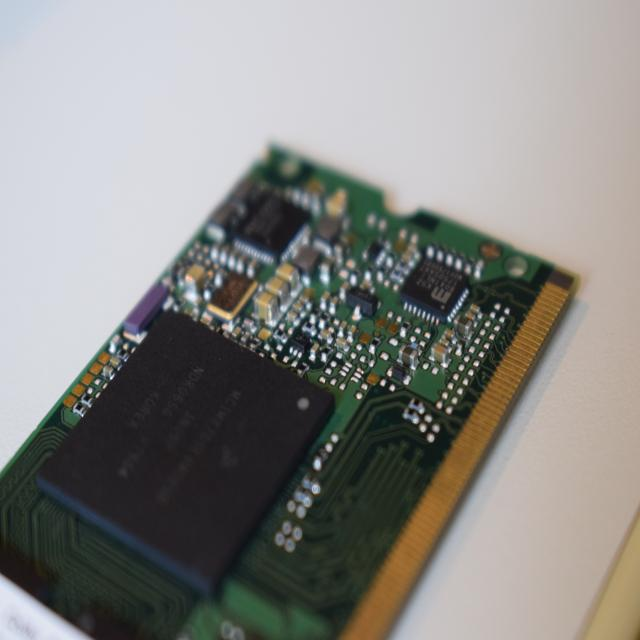som: (2, 137, 586, 640)
